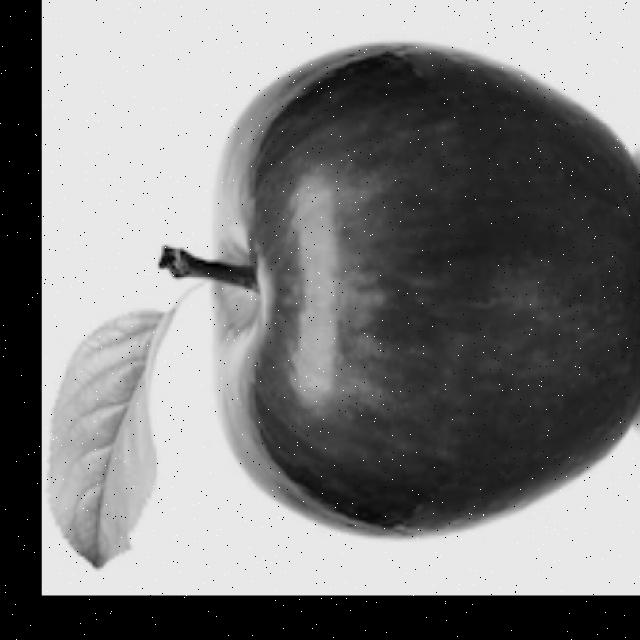Ripe: (187, 38, 640, 544)
